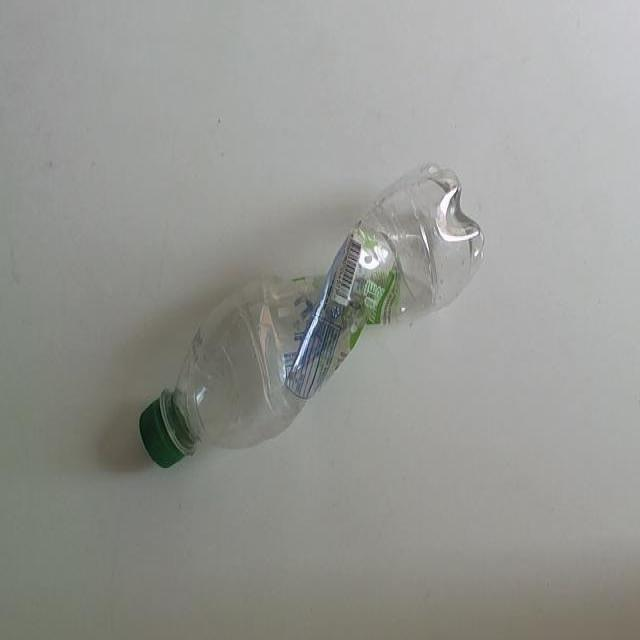defect: (136, 156, 488, 473)
